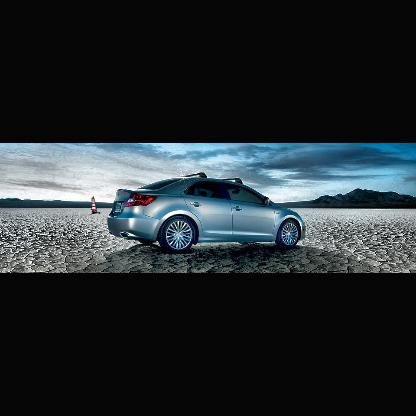Suzuki Kizashi Sedan 2012: (106, 173, 305, 254)
